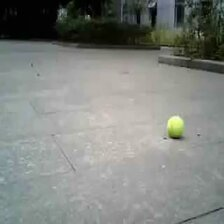tennis: (167, 116, 182, 138)
